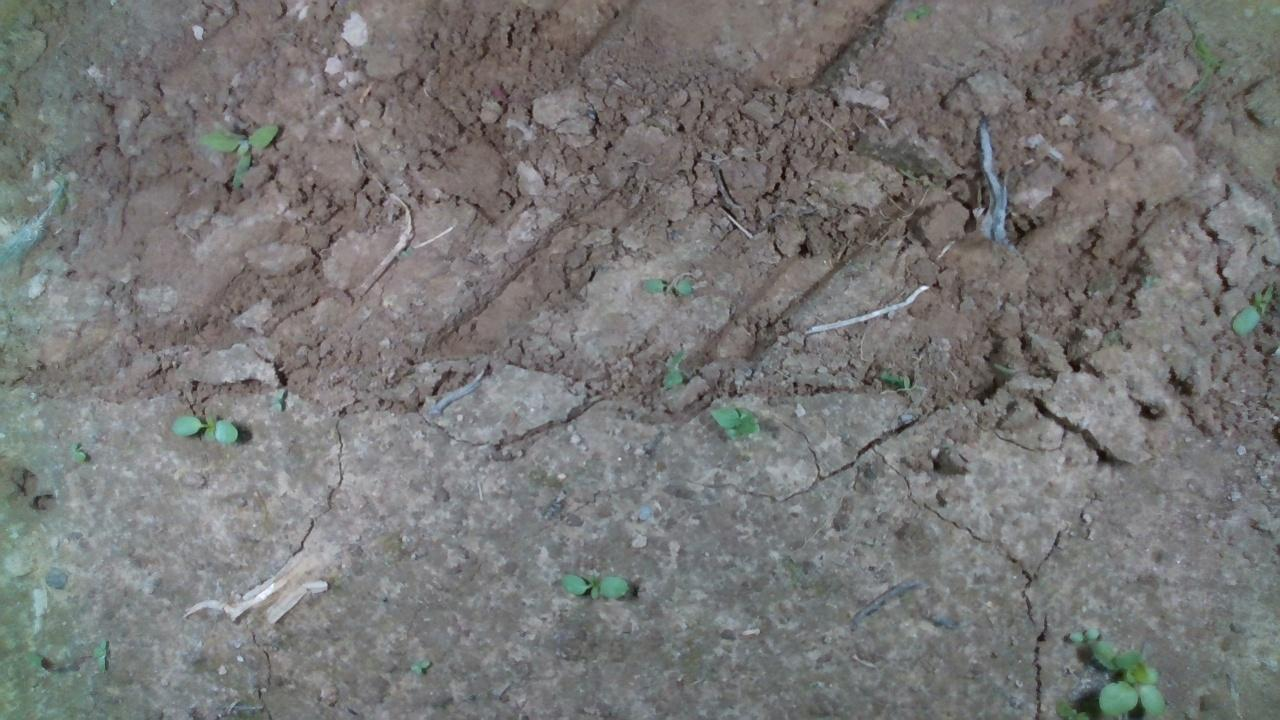weed: (197, 120, 279, 152), (168, 410, 239, 445), (1230, 283, 1274, 335), (557, 569, 628, 599), (707, 403, 761, 439), (639, 274, 694, 295), (87, 635, 108, 672), (406, 656, 432, 674), (67, 441, 86, 464)
